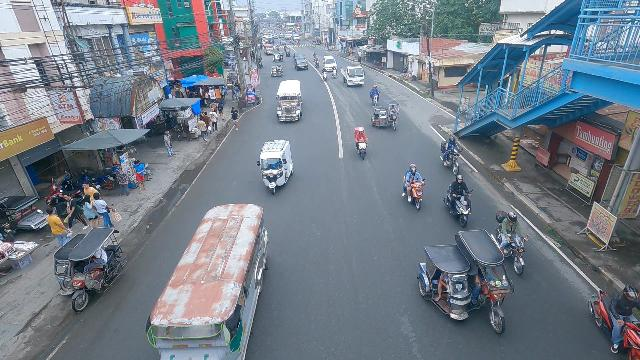car: (321, 55, 337, 72), (293, 54, 308, 70)
jeepney: (147, 202, 269, 360), (275, 78, 303, 124), (263, 44, 275, 55)
motorcycle: (587, 287, 640, 360), (494, 209, 528, 276), (444, 174, 471, 225), (401, 162, 425, 210), (440, 136, 464, 176), (353, 130, 368, 162), (370, 85, 381, 107), (322, 67, 328, 81), (331, 67, 337, 80), (314, 58, 320, 68), (258, 59, 263, 69), (313, 52, 317, 61), (283, 45, 287, 54), (275, 44, 280, 51)
truck: (257, 139, 293, 194), (341, 65, 365, 87)
